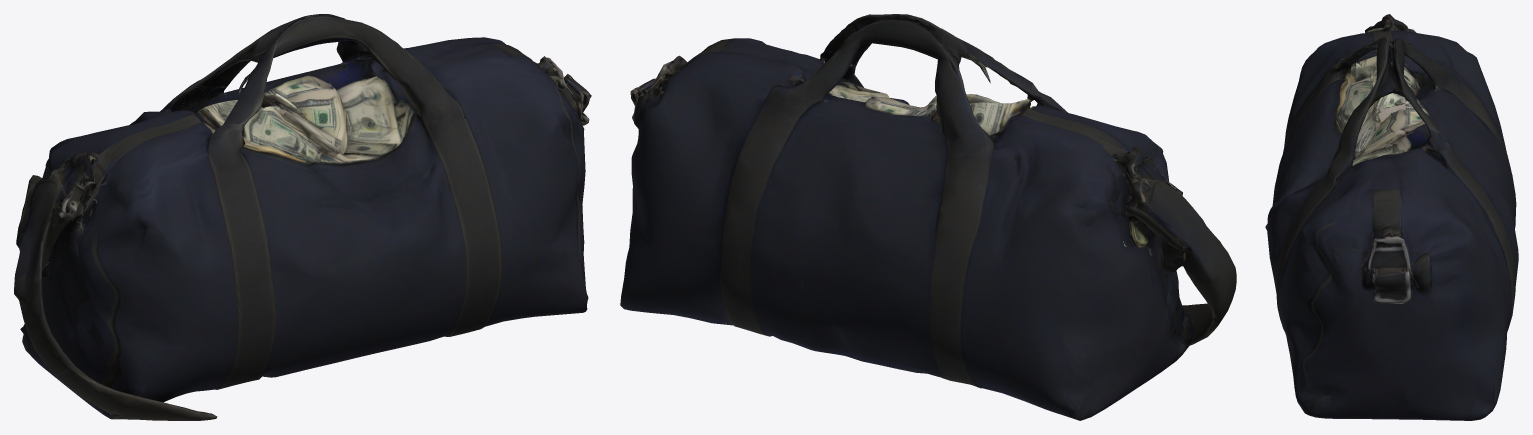
The model's file is LootBag.glb.
3 renders of one model, left to right at view 1: azimuth 30°, elevation 25°; view 2: azimuth 150°, elevation 25°; view 3: azimuth 270°, elevation 25°, orthographic. The views are drawn at different scales.
Size of the model in its own units: 1.99 by 1.06 by 0.8735.
1 material, 1 textured.
